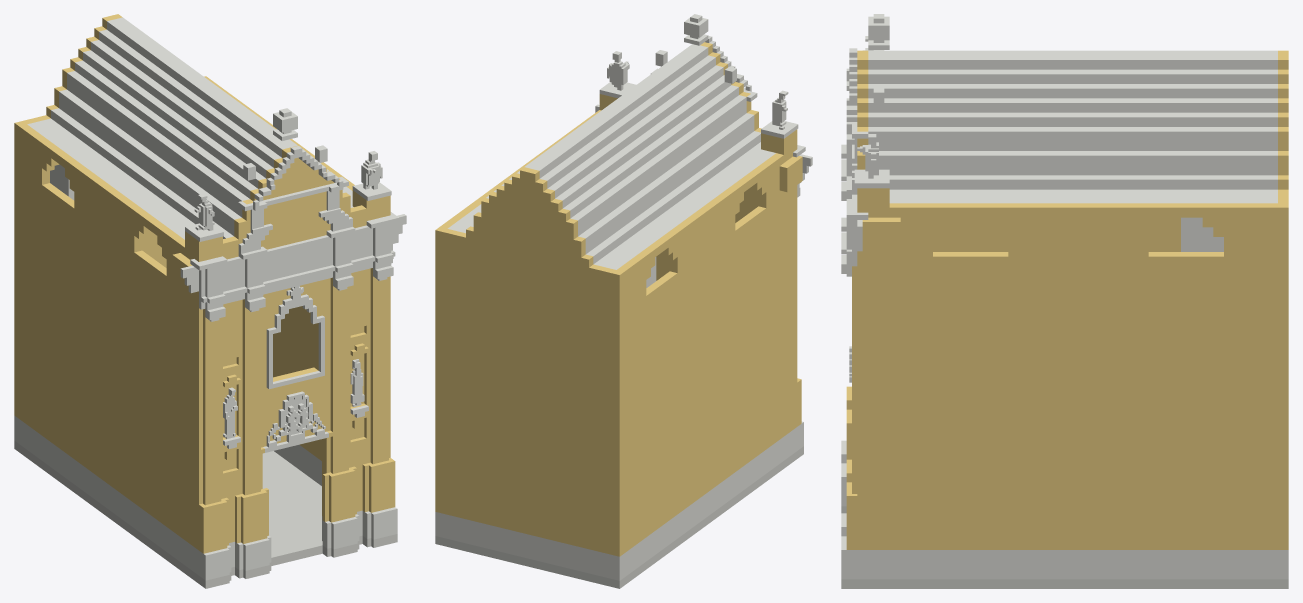
File: Disciplina.obj
3 renders of one model, left to right at view 1: azimuth 30°, elevation 25°; view 2: azimuth 150°, elevation 25°; view 3: azimuth 270°, elevation 25°, orthographic. The views are drawn at different scales.
Bounding box in the file's own units: 11.2 × 21.2 × 16.6.
